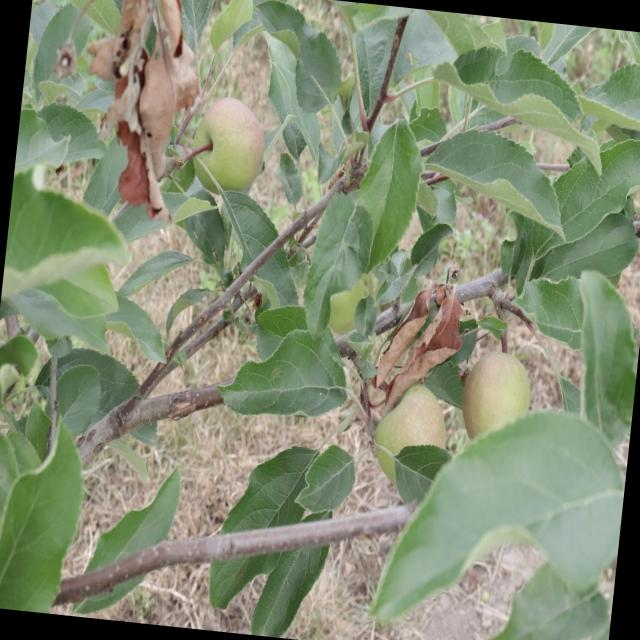-FireBlight-: (87, 0, 208, 220), (384, 274, 478, 409)
